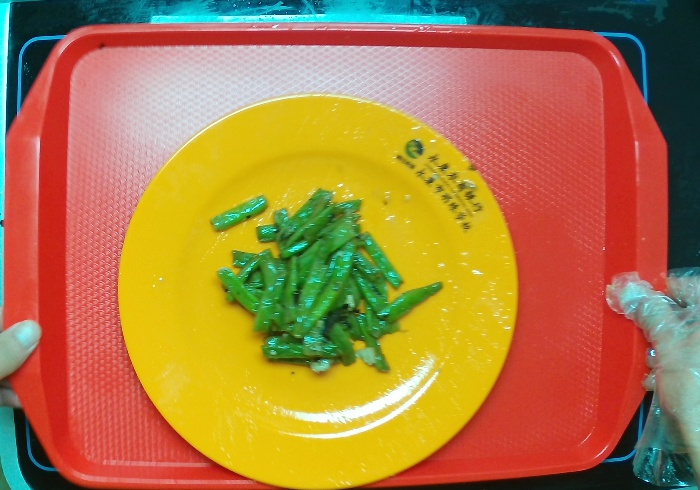YKMZ-Ju_Se_Mian_Pan: (115, 91, 519, 490)
